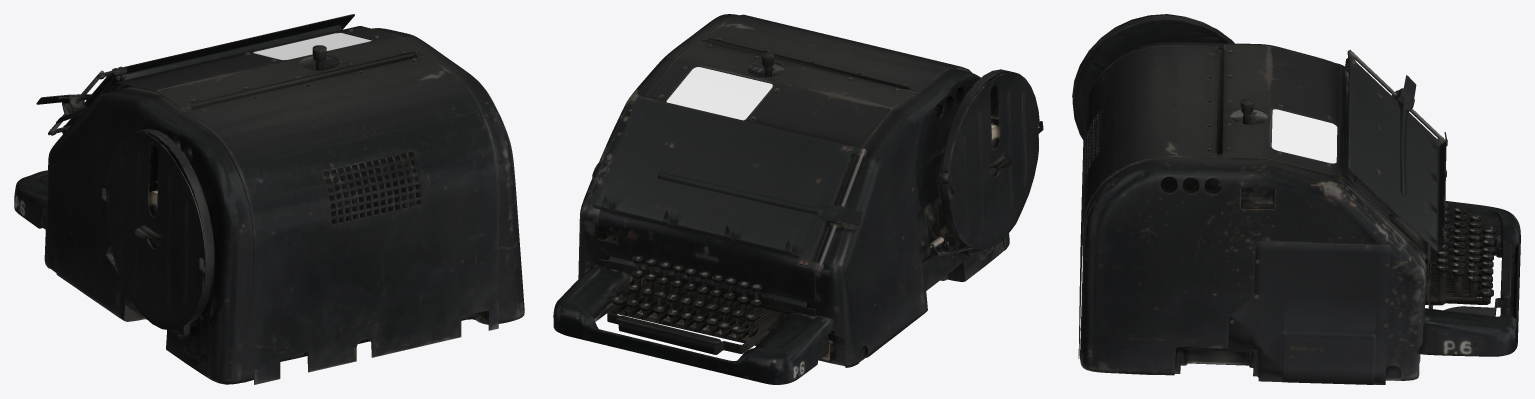
3 views of the same model, side by side, from view 1: azimuth 30°, elevation 25°; view 2: azimuth 150°, elevation 25°; view 3: azimuth 270°, elevation 25° (orthographic). The views are drawn at different scales.
Visible parts, largest first — view 1: MIM_1838_Baked; view 2: MIM_1838_Baked; view 3: MIM_1838_Baked.
Part boxes in pixels (bbox=[...]): MIM_1838_Baked: bbox=[14, 14, 524, 384]; MIM_1838_Baked: bbox=[553, 14, 1043, 384]; MIM_1838_Baked: bbox=[1072, 14, 1520, 384].
Size of the model in its own units: 45.33 by 30.08 by 53.57.
